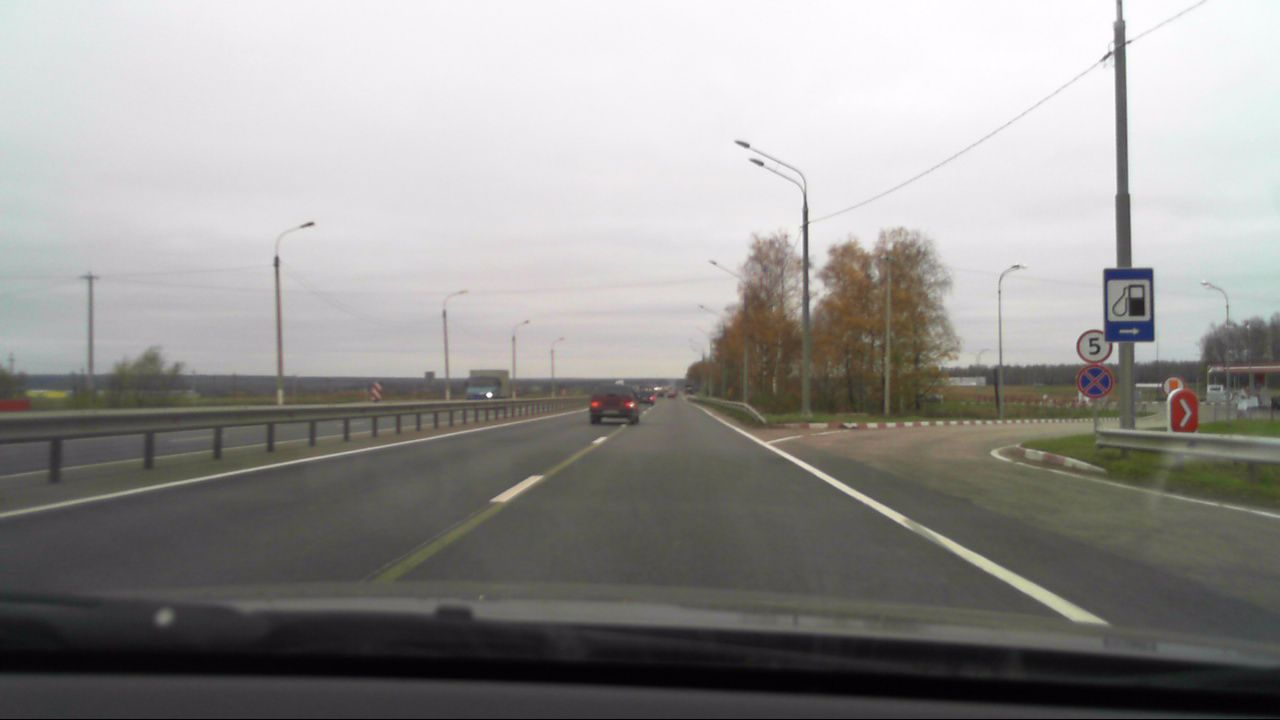No Parking: (1076, 365, 1110, 399)
